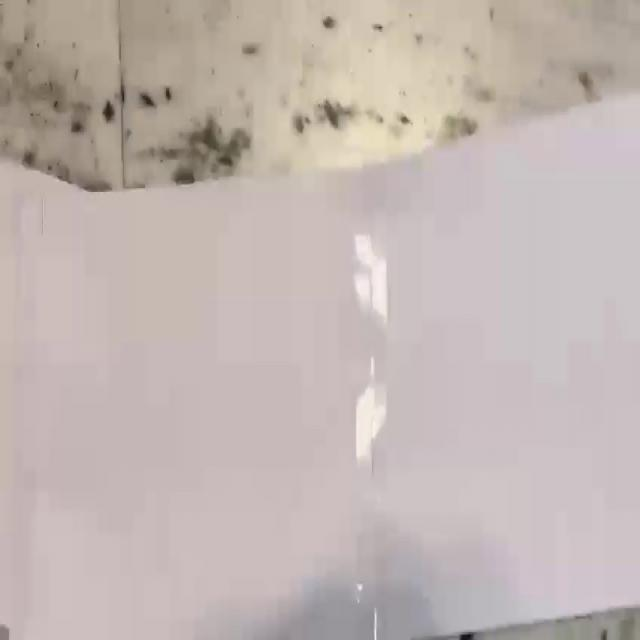road: (0, 95, 640, 639)
